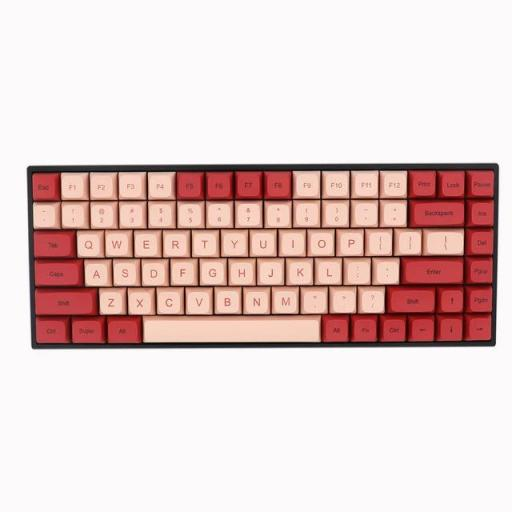keyboard: (11, 149, 503, 365)
